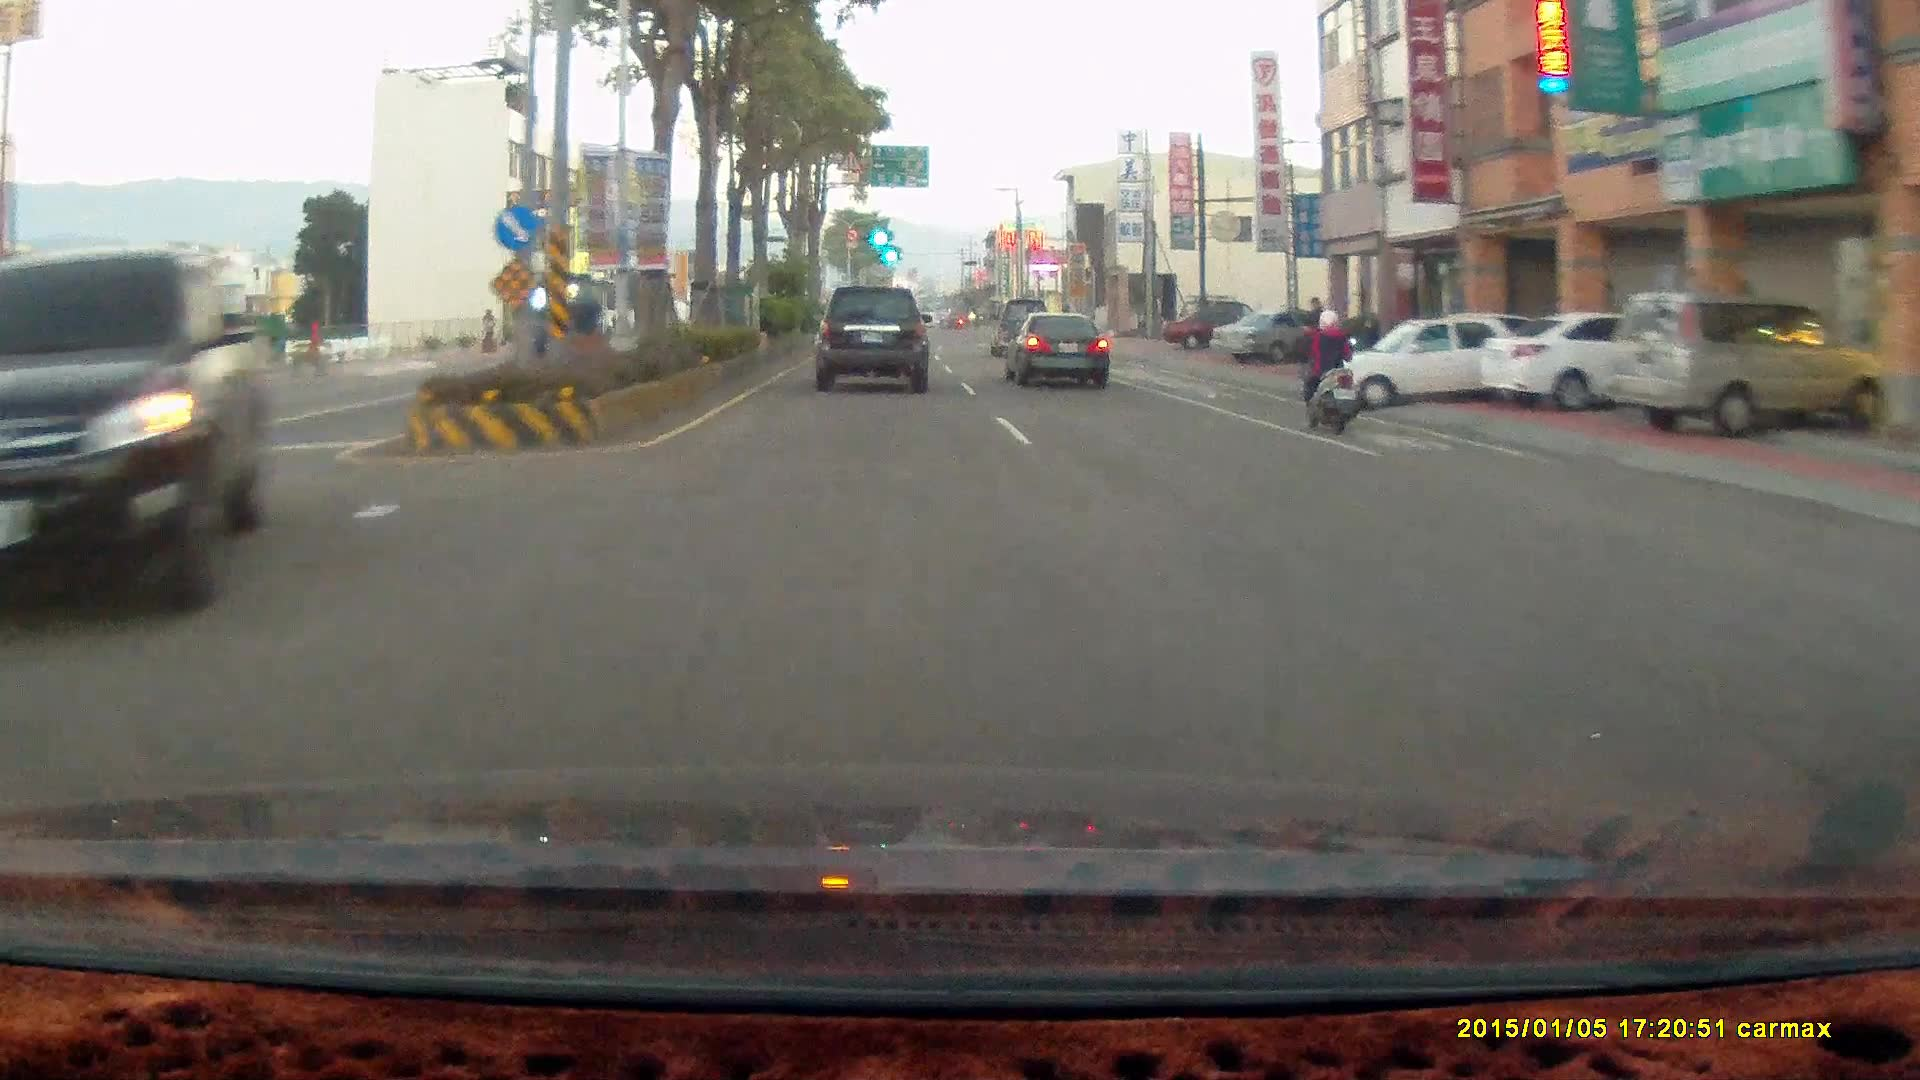rider: (1285, 294, 1372, 442), (1295, 302, 1360, 430)
vehicle: (1, 245, 273, 626), (0, 245, 276, 617), (1605, 288, 1891, 436), (1609, 292, 1886, 442), (1478, 305, 1729, 410), (1315, 311, 1562, 412), (1314, 311, 1537, 412), (1476, 304, 1687, 408), (814, 284, 934, 393), (814, 284, 932, 393), (1007, 310, 1120, 387), (1004, 308, 1108, 386), (1212, 303, 1341, 361), (1211, 310, 1340, 366), (1163, 304, 1276, 350), (987, 293, 1052, 353)
